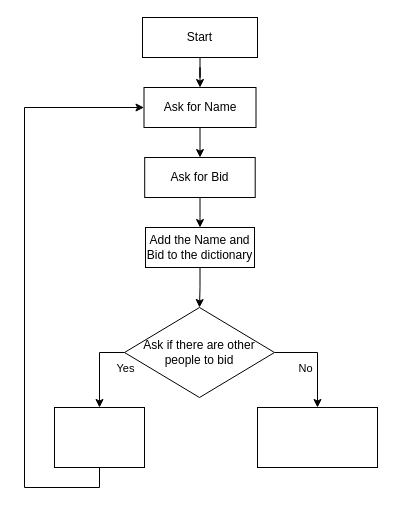
Image size: 395x513. Some labels were removed from this diagram. Here are the shapes that lost their labels. From the top down, the centre of each, then its label:
(99,437): Clear the console
(317,437): Check which user had the highest bid and announce it
